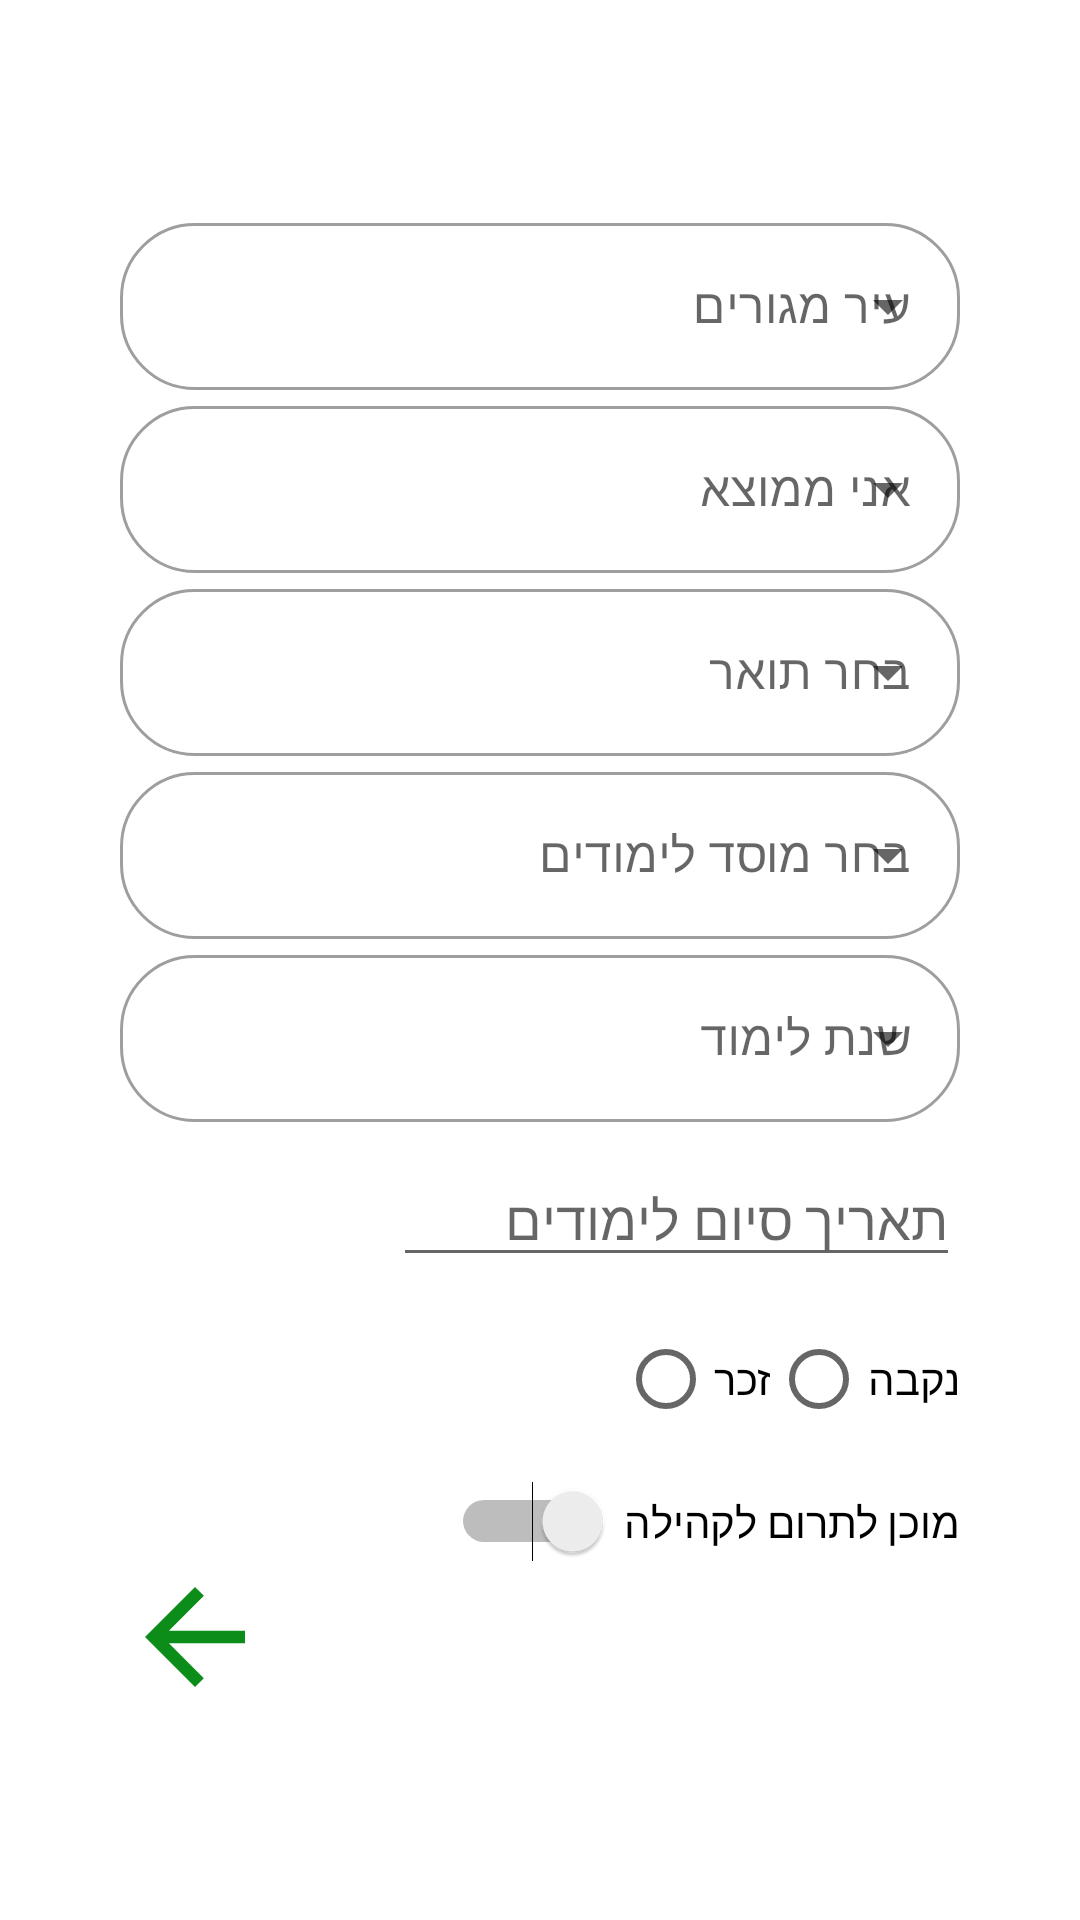

Where icons sit on this 1080 x 1920 app screen, as [x1,y1,x2,y2]:
arrow: [145,1587,245,1687]
